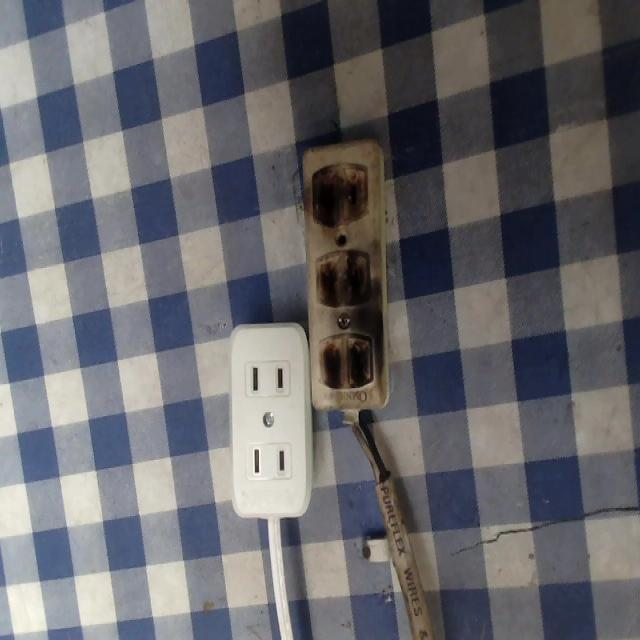-: (308, 157, 371, 227), (312, 329, 378, 391), (310, 251, 375, 309)
